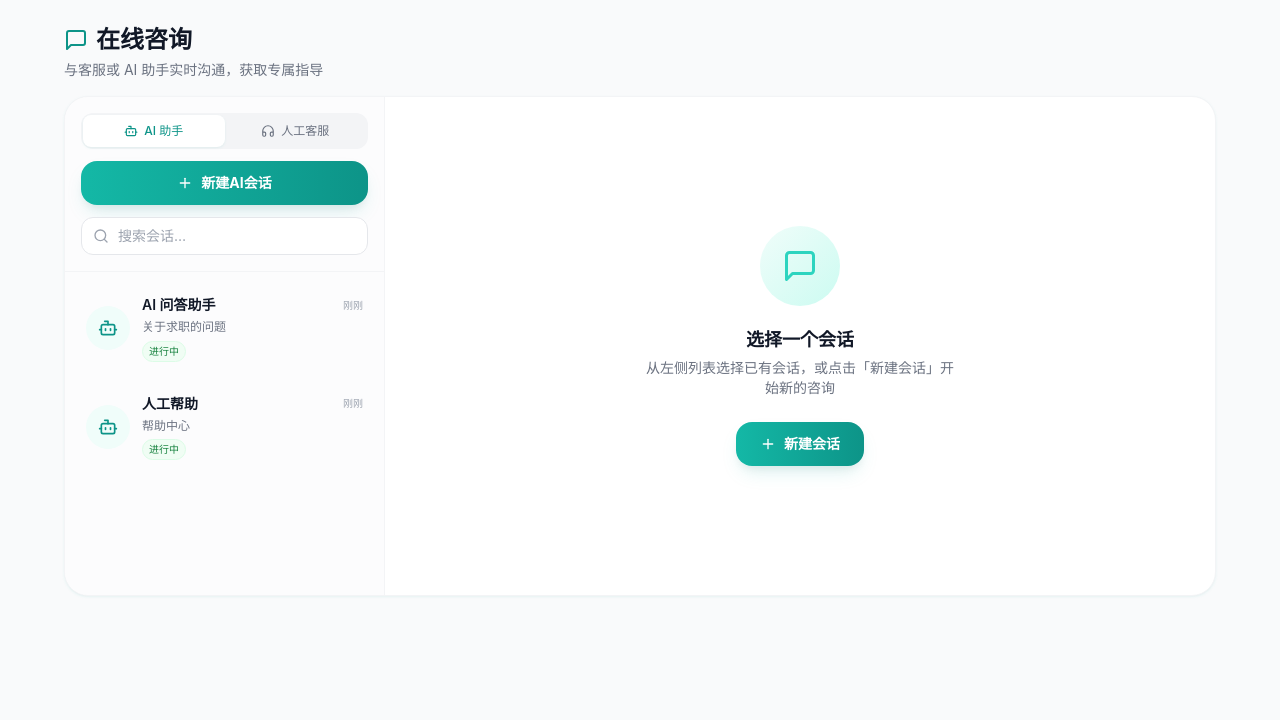
Test: Chat 页面 › 已登录 - 会话列表 › 搜索框过滤会话列表
//  搜索 "求职"
Type "求职" into the field with placeholder "搜索会话…".
click(224, 236); type("求职")  # box 81,217 -> 368,255
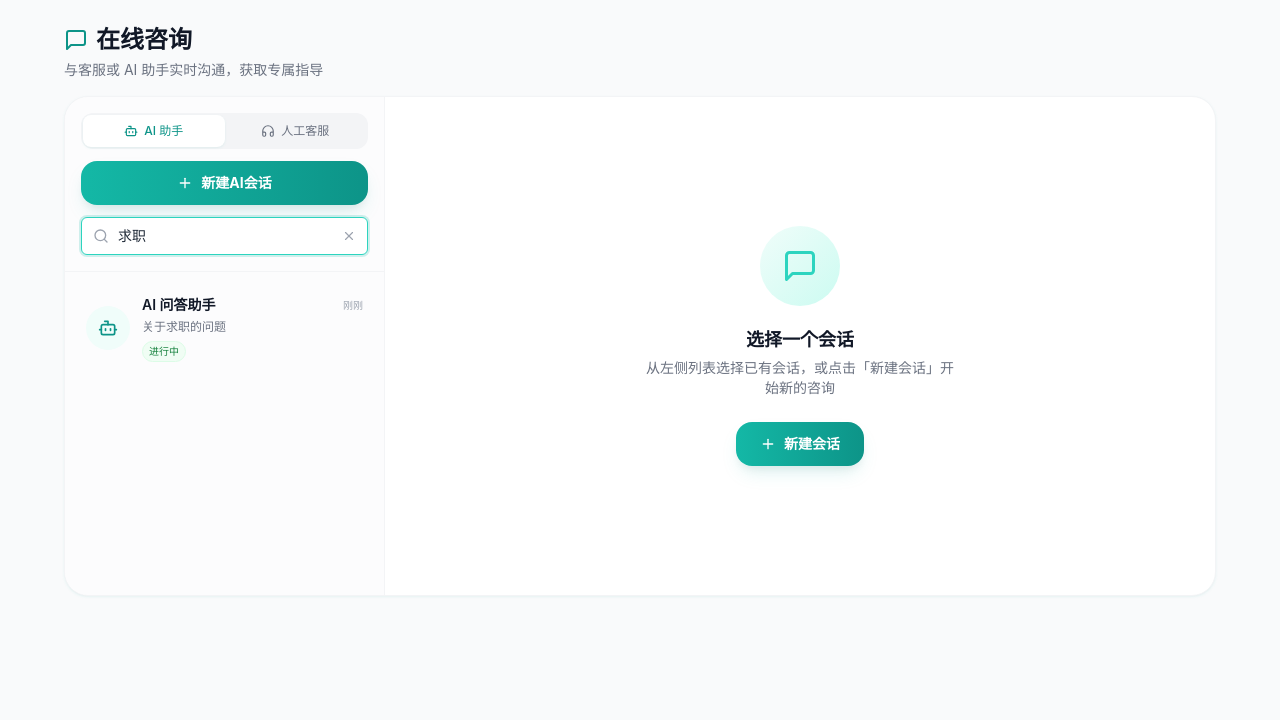
Expected: the text "AI 问答助手" is shown, 142,295 -> 216,315
Expected: the button "人工帮助" is gone
